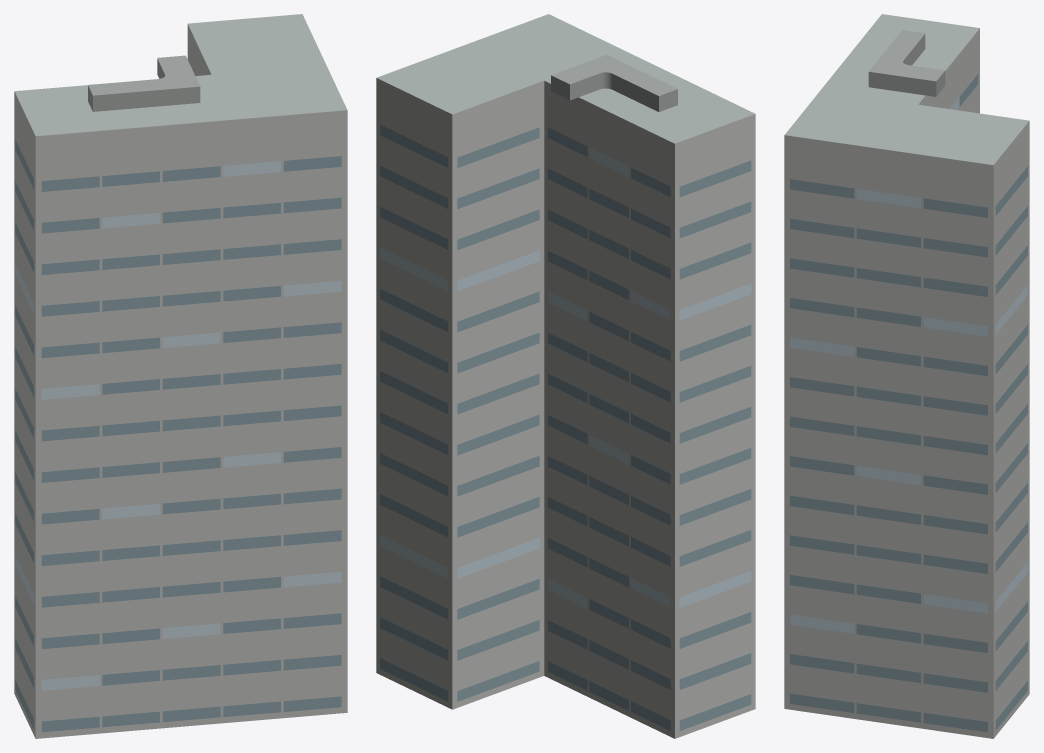
Rendered from fallback-dh-honor-hills-317.glb.
The picture shows the model from 3 angles, left to right: view 1: azimuth 30°, elevation 25°; view 2: azimuth 150°, elevation 25°; view 3: azimuth 270°, elevation 25°; orthographic projection. The views are drawn at different scales.
Parts seen in each view (by area): view 1: fallback-dh-honor-hills-317; view 2: fallback-dh-honor-hills-317; view 3: fallback-dh-honor-hills-317.
Boxes of the visible parts, x1,y1,x2,y2 form: fallback-dh-honor-hills-317: (14,14,347,738); fallback-dh-honor-hills-317: (376,14,755,738); fallback-dh-honor-hills-317: (784,14,1029,738).
Size of the model in its own units: 50.08 by 91 by 34.3.
